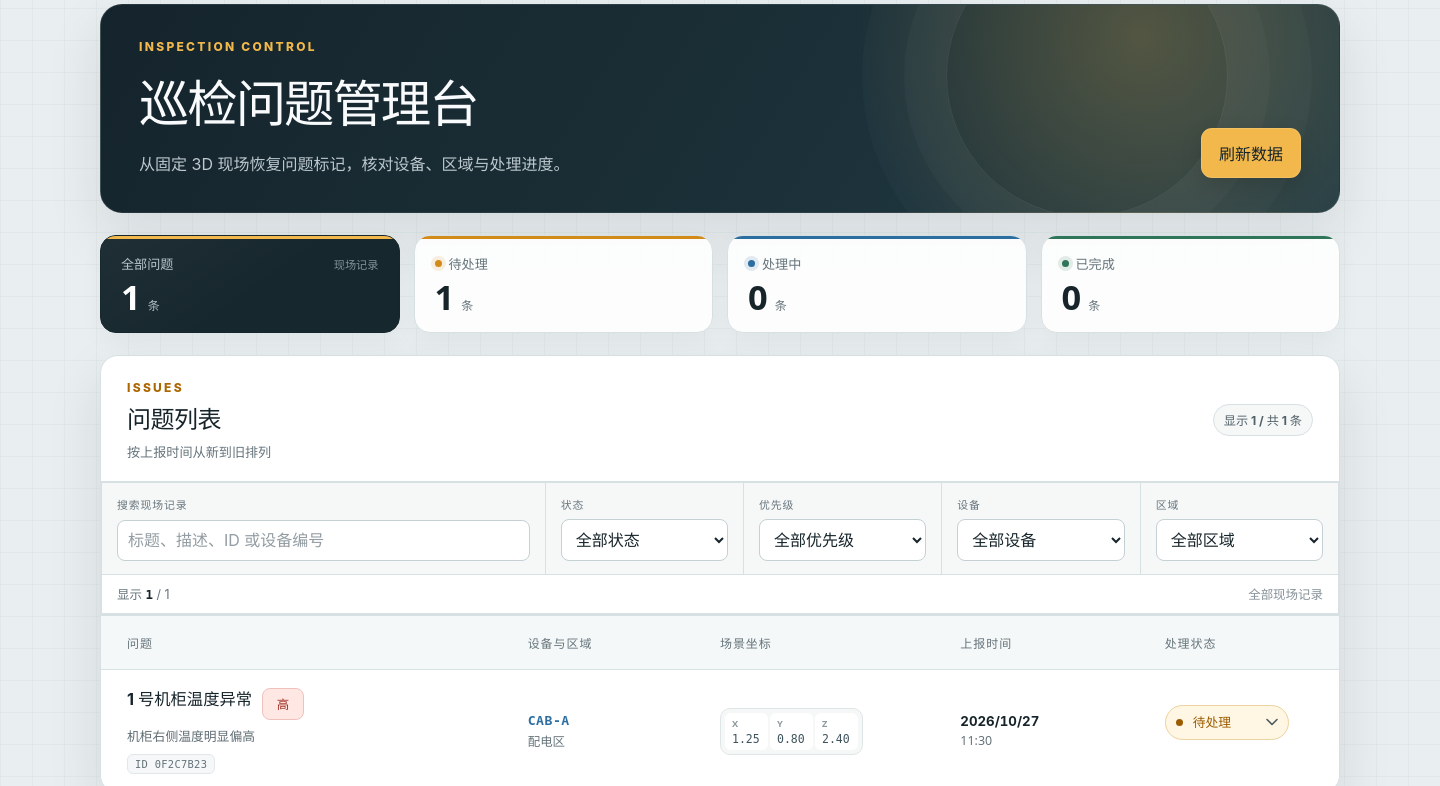
Test: inspection issue dashboard › retains the original status when update fails
The width and height of the screenshot is (1440, 786).
Select "已完成" in the dropdown named "修改 1 号机柜温度异常 的状态" at (1236, 722), box x1=1190 y1=708 x2=1282 y2=736
(page scrolled)
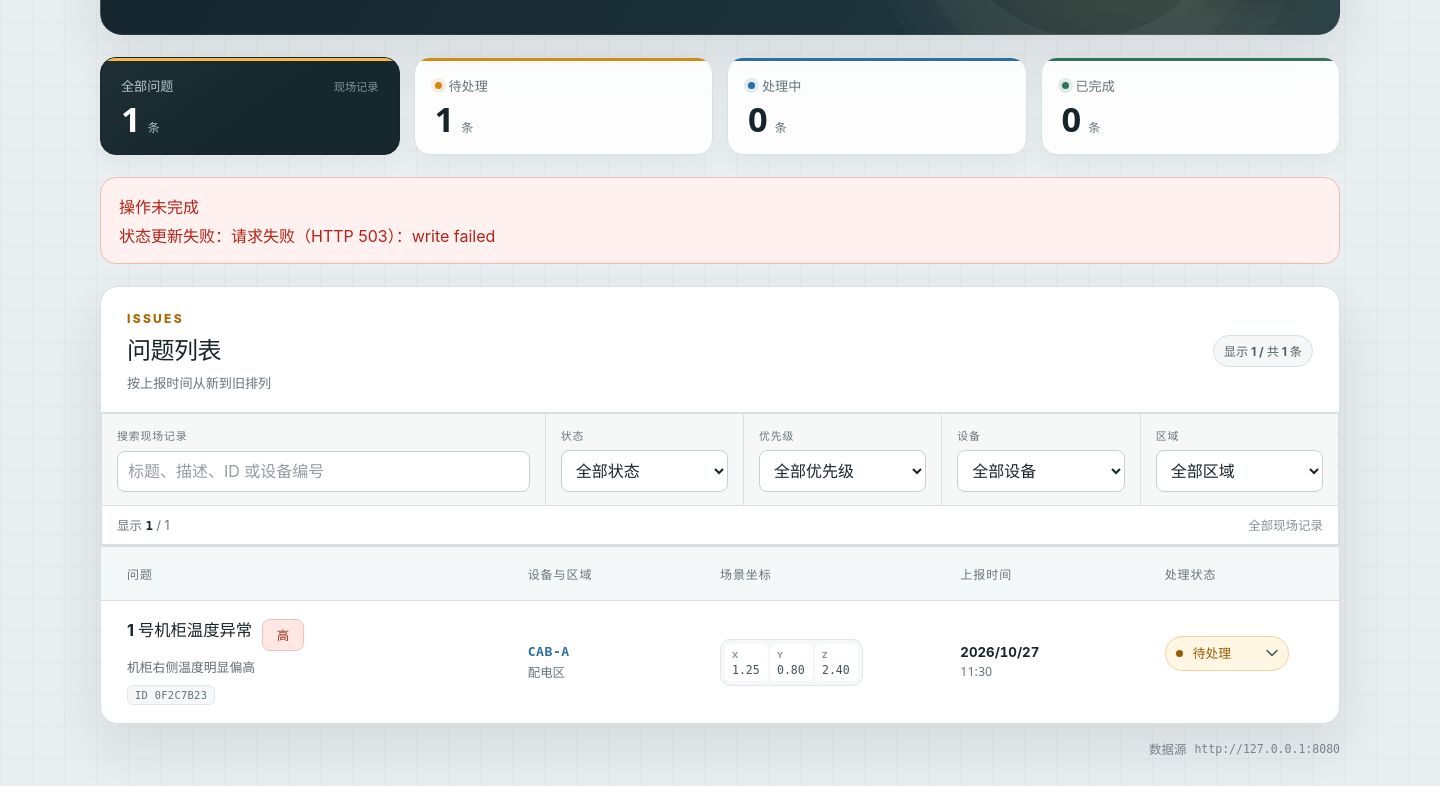
Result: the message "操作未完成 状态更新失败：请求失败（HTTP 503）：write failed" is shown at x1=100 y1=177 x2=1340 y2=264
